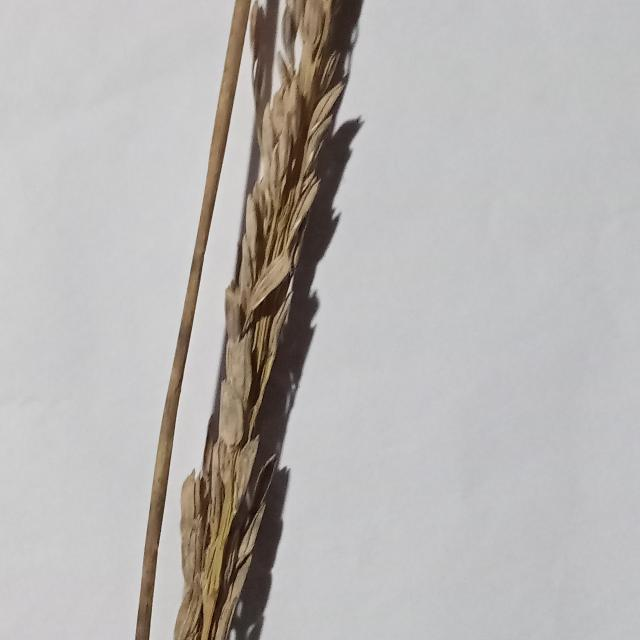Neck_Blast: (167, 0, 352, 640)
